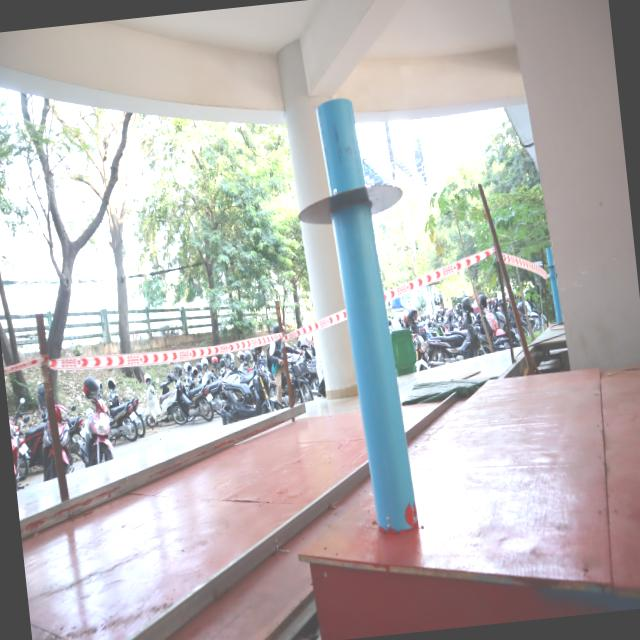pole: (286, 88, 422, 305)
